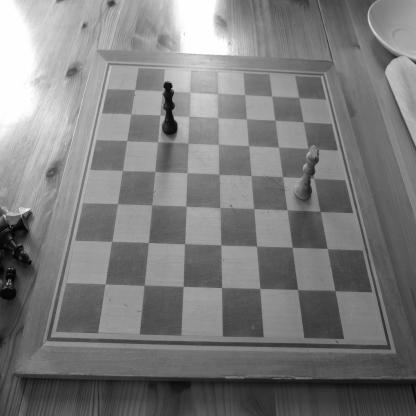black-bishop: (0, 228, 33, 266)
black-king: (162, 80, 178, 135)
black-pawn: (0, 266, 17, 301)
white-king: (294, 145, 320, 201)
white-knight: (0, 206, 33, 228)
